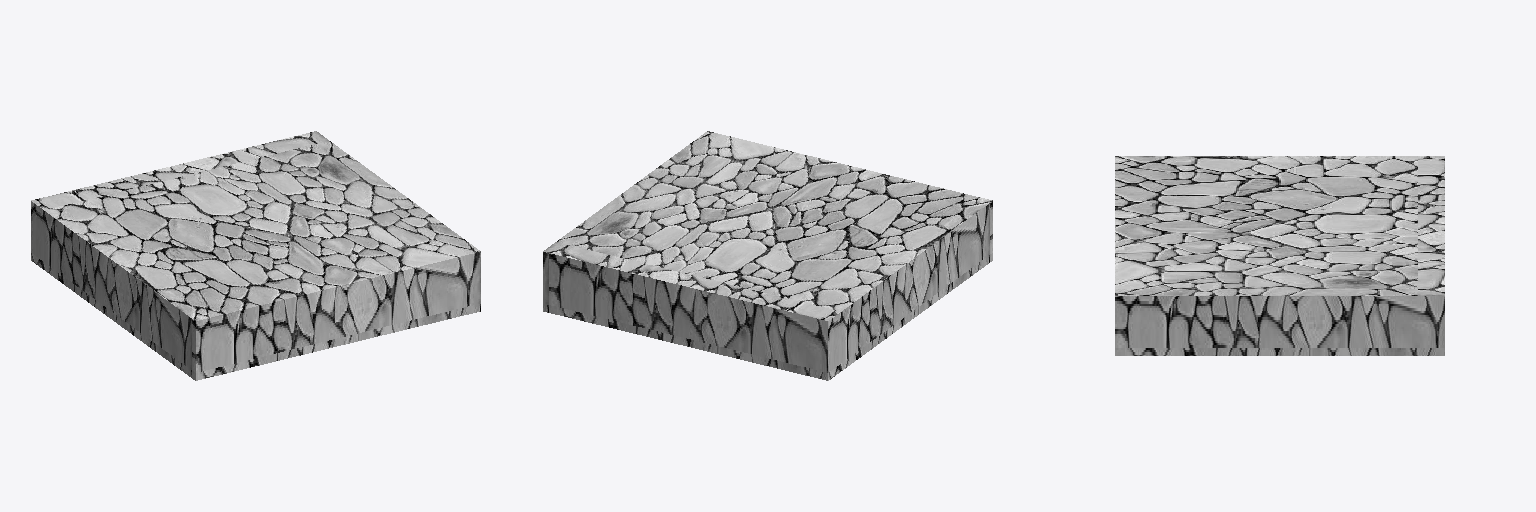
3 views of the same model, side by side, from view 1: azimuth 30°, elevation 25°; view 2: azimuth 150°, elevation 25°; view 3: azimuth 270°, elevation 25° (orthographic).
Parts seen in each view (by area): view 1: Cube_Cube.002; view 2: Cube_Cube.002; view 3: Cube_Cube.002.
Boxes of the visible parts, <box> form: Cube_Cube.002: <box>31,131,480,380</box>; Cube_Cube.002: <box>543,131,992,380</box>; Cube_Cube.002: <box>1115,156,1444,355</box>.
Size of the model in its own units: 1 by 0.2 by 1.
1 materials, 1 textured.